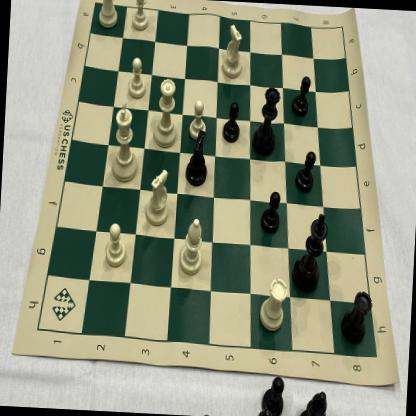bishop: (176, 216, 205, 277)
king: (290, 210, 330, 298), (107, 100, 142, 183)
knight: (144, 166, 172, 228), (182, 128, 210, 186)
pawn: (102, 221, 128, 270), (258, 188, 283, 235), (292, 148, 316, 194), (218, 99, 242, 144), (126, 54, 148, 100), (290, 74, 312, 119), (186, 97, 208, 141), (129, 0, 152, 34)
queen: (150, 74, 180, 150), (251, 86, 281, 158)
rook: (257, 272, 289, 335), (338, 288, 372, 347), (94, 0, 121, 32)
